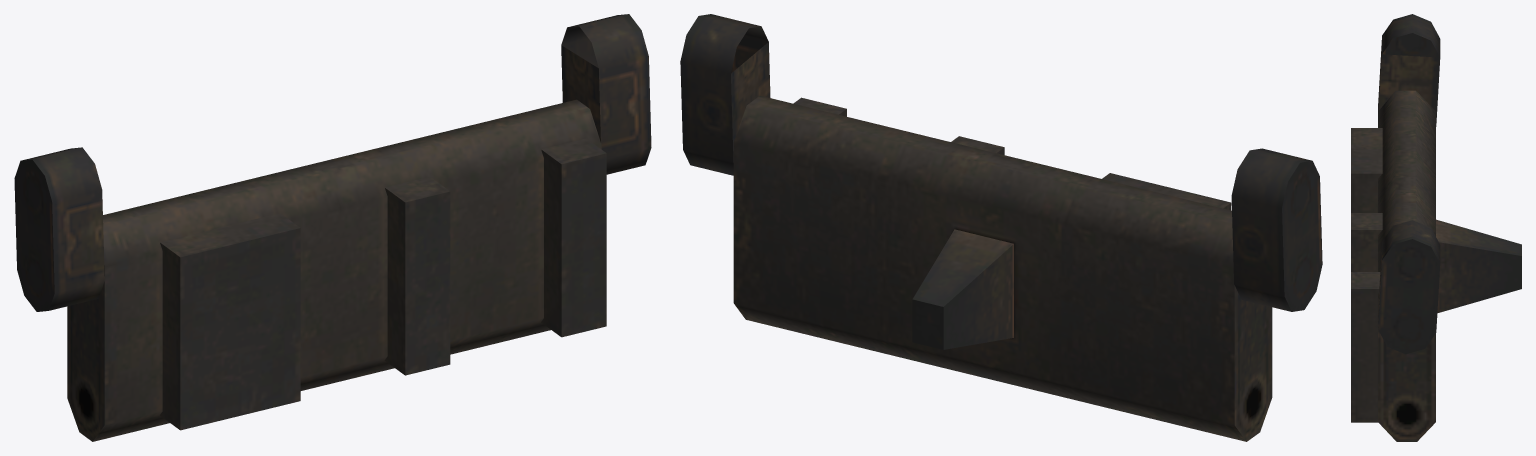
3 views of the same model, side by side, from view 1: azimuth 30°, elevation 25°; view 2: azimuth 150°, elevation 25°; view 3: azimuth 270°, elevation 25° (orthographic). The views are drawn at different scales.
Parts seen in each view (by area): view 1: set_0_group_0; view 2: set_0_group_0; view 3: set_0_group_0.
Part boxes in pixels (x1=…): set_0_group_0: x1=14, y1=14, x2=651, y2=441; set_0_group_0: x1=680, y1=14, x2=1322, y2=441; set_0_group_0: x1=1351, y1=14, x2=1521, y2=441.
Bounding box in the file's own units: 0.5908 × 0.2716 × 0.1897.
Materials: 1 (1 with a texture image).
